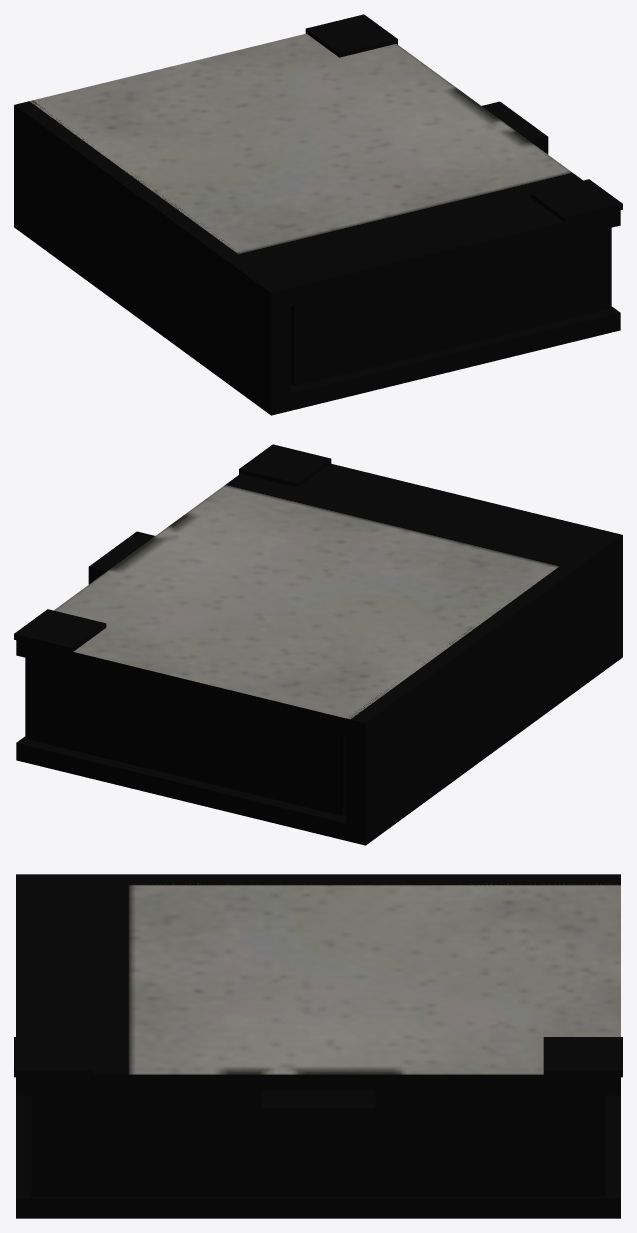
The model's file is grimoire.fbx.
3 views of the same model, one above another, from view 1: azimuth 30°, elevation 25°; view 2: azimuth 150°, elevation 25°; view 3: azimuth 270°, elevation 25° (orthographic). The views are drawn at different scales.
Visible parts, largest first — view 1: grimoire_cover, grimoire; view 2: grimoire_cover, grimoire; view 3: grimoire_cover, grimoire.
Part boxes in pixels (x1=…): grimoire_cover: x1=29, y1=14, x2=622, y2=306; grimoire: x1=14, y1=100, x2=620, y2=415; grimoire_cover: x1=14, y1=444, x2=607, y2=735; grimoire: x1=16, y1=530, x2=622, y2=845; grimoire_cover: x1=14, y1=883, x2=622, y2=1159; grimoire: x1=16, y1=874, x2=620, y2=1218.
Size of the model in its own units: 0.274 by 0.087 by 0.322.
